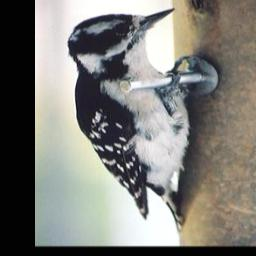Woodpecker: (66, 7, 198, 232)
